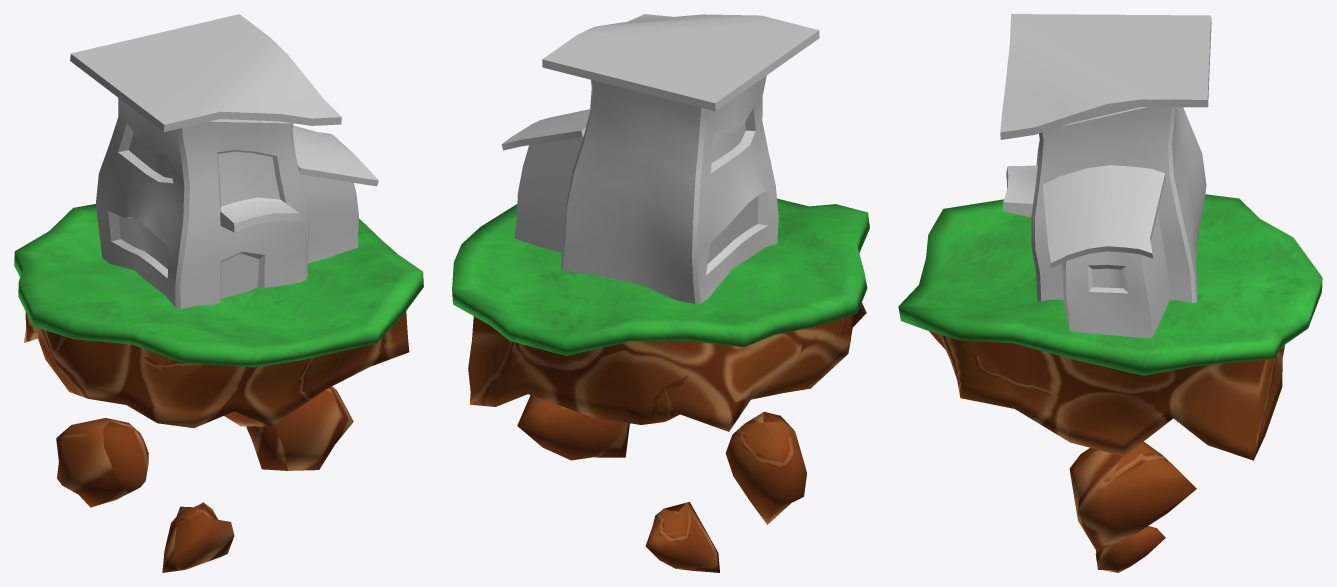
The model's file is Building Hovel Stone 2Story Extended Floating.fbx.
3 renders of one model, left to right at view 1: azimuth 30°, elevation 25°; view 2: azimuth 150°, elevation 25°; view 3: azimuth 270°, elevation 25°, orthographic. The views are drawn at different scales.
Parts seen in each view (by area): view 1: Roof2.002, Floating Ground2.001, Floating Ground2.002; view 2: Roof2.002, Floating Ground2.001, Floating Ground2.002; view 3: Roof2.002, Floating Ground2.002, Floating Ground2.001.
Part boxes in pixels (left/top/right/bottom): Roof2.002: left=70, top=14, right=378, bottom=309; Floating Ground2.001: left=24, top=311, right=409, bottom=572; Floating Ground2.002: left=14, top=204, right=423, bottom=367; Roof2.002: left=501, top=14, right=819, bottom=303; Floating Ground2.001: left=468, top=302, right=866, bottom=572; Floating Ground2.002: left=452, top=198, right=869, bottom=355; Roof2.002: left=1000, top=14, right=1211, bottom=337; Floating Ground2.002: left=898, top=194, right=1322, bottom=375; Floating Ground2.001: left=929, top=331, right=1284, bottom=572.
Size of the model in its own units: 5.18 by 7.18 by 5.35.
